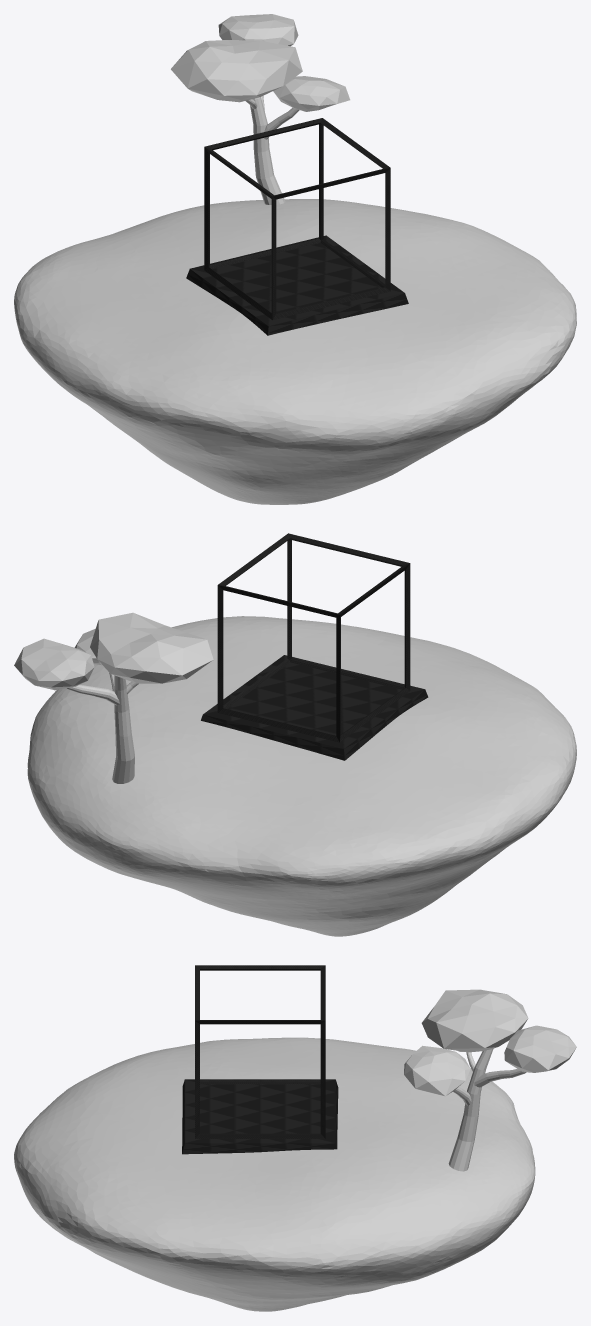
The model's file is map.obj.
3 renders of one model, top to bottom at view 1: azimuth 30°, elevation 25°; view 2: azimuth 150°, elevation 25°; view 3: azimuth 270°, elevation 25°, orthographic. The views are drawn at different scales.
Visible parts, largest first — view 1: Icosphere, Cube.001_Cube, Cube_Cube.010, Icosphere.002_Icosphere.008, Icosphere.001_Icosphere.007, Cylinder_Cylinder.002, Icosphere.003_Icosphere.009; view 2: Icosphere, Cube.001_Cube, Cube_Cube.010, Icosphere.002_Icosphere.008, Icosphere.001_Icosphere.007, Cylinder_Cylinder.002; view 3: Icosphere, Cube.001_Cube, Icosphere.002_Icosphere.008, Cube_Cube.010, Icosphere.001_Icosphere.007, Cylinder_Cylinder.002, Icosphere.003_Icosphere.009.
Part boxes in pixels (box(x1,y1,x2,y2)): Icosphere: box(14, 199, 576, 504); Cube.001_Cube: box(186, 235, 408, 335); Cube_Cube.010: box(204, 118, 390, 320); Icosphere.002_Icosphere.008: box(171, 40, 302, 102); Icosphere.001_Icosphere.007: box(218, 14, 298, 46); Cylinder_Cylinder.002: box(245, 95, 299, 204); Icosphere.003_Icosphere.009: box(273, 76, 350, 111); Icosphere: box(27, 616, 576, 936); Cube.001_Cube: box(201, 655, 428, 760); Cube_Cube.010: box(217, 533, 410, 742); Icosphere.002_Icosphere.008: box(90, 612, 213, 683); Icosphere.001_Icosphere.007: box(14, 638, 94, 690); Cylinder_Cylinder.002: box(66, 673, 138, 783); Icosphere: box(14, 1037, 535, 1311); Cube.001_Cube: box(182, 1079, 338, 1154); Icosphere.002_Icosphere.008: box(421, 989, 528, 1052); Cube_Cube.010: box(195, 965, 325, 1138); Icosphere.001_Icosphere.007: box(504, 1025, 576, 1072); Cylinder_Cylinder.002: box(448, 1049, 526, 1171); Icosphere.003_Icosphere.009: box(404, 1045, 470, 1096).
Bounding box in the file's own units: 204 × 146 × 221.
